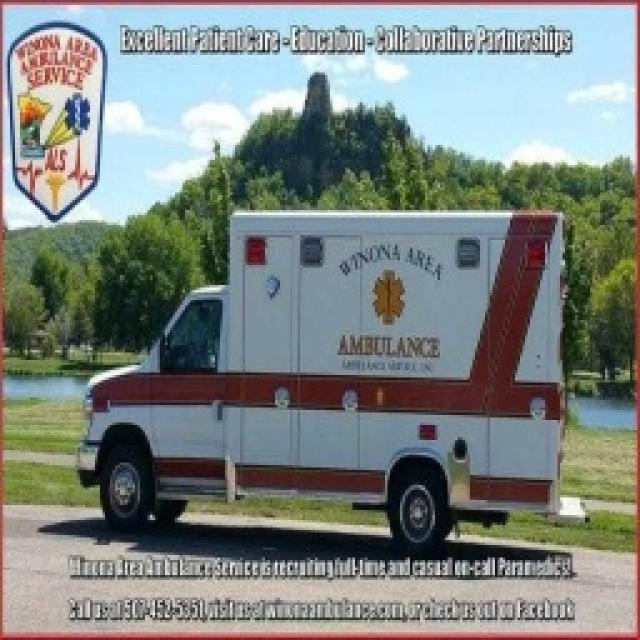ambulance: (75, 212, 563, 552)
